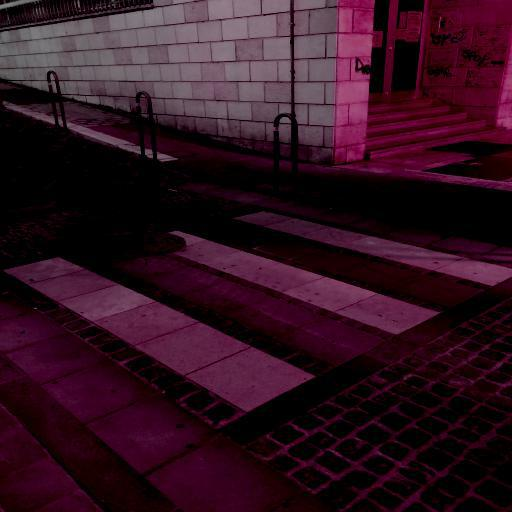crosswalk: (147, 205, 511, 339)
